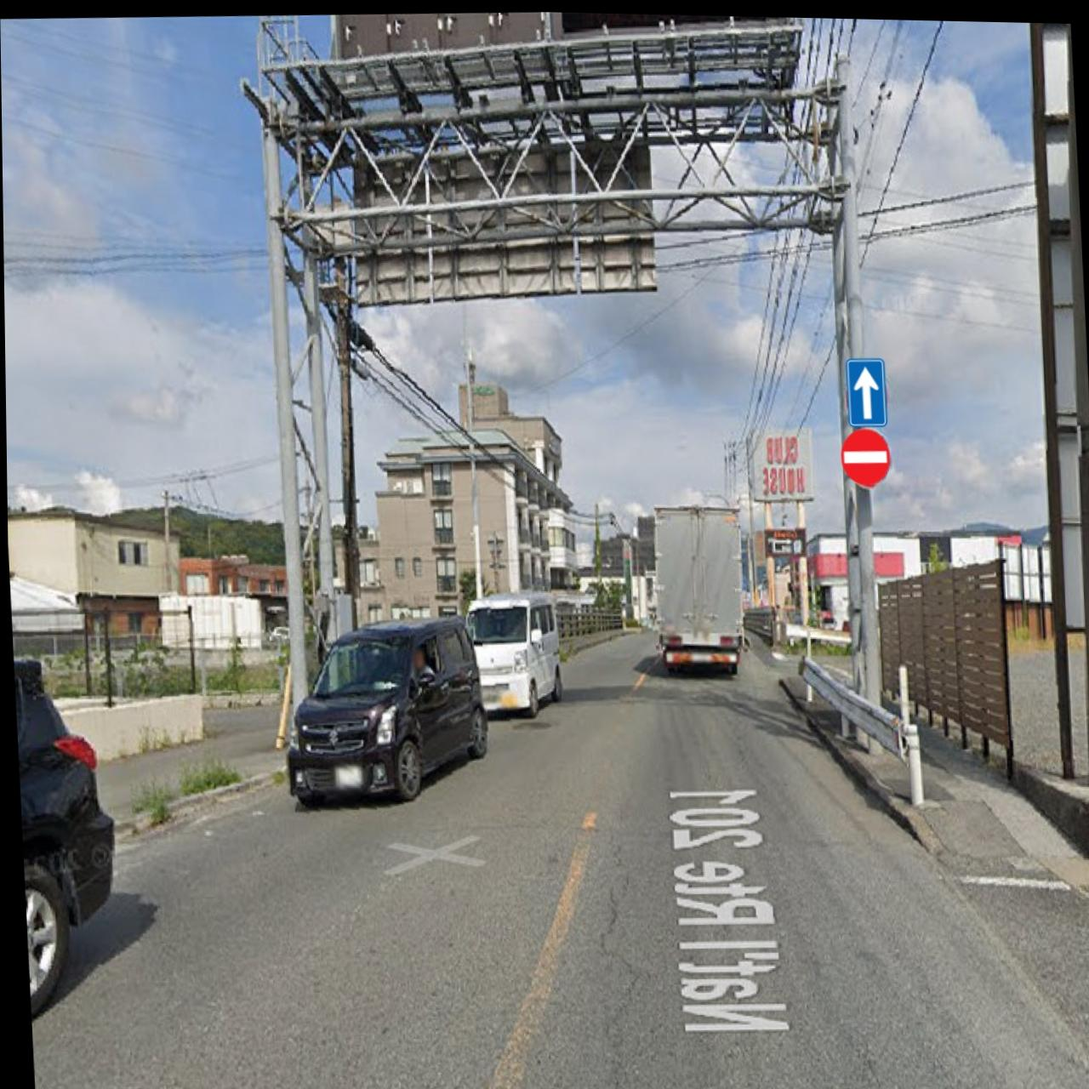barrier: (835, 426, 896, 494)
